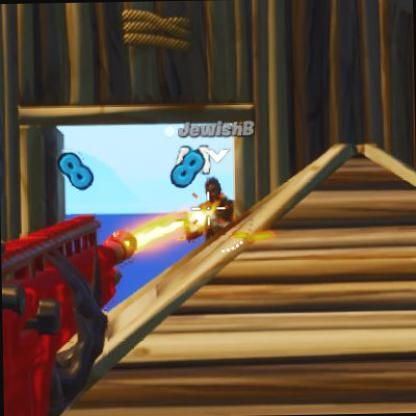person: (200, 183, 230, 242)
